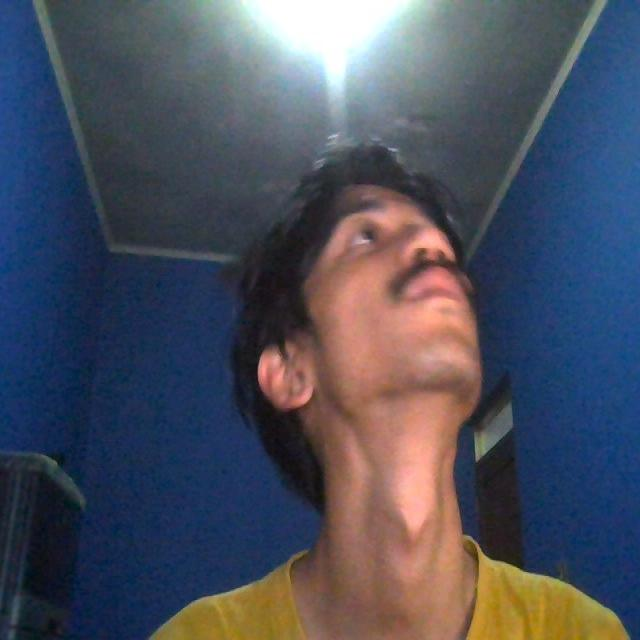Melihat keatas: (166, 170, 534, 485)
